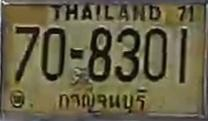0: (40, 27, 66, 80), (143, 27, 167, 81)
1: (178, 28, 186, 82)
3: (115, 27, 140, 81)
7: (14, 26, 39, 81)
8: (88, 26, 112, 81)
KRI: (53, 87, 151, 116)
